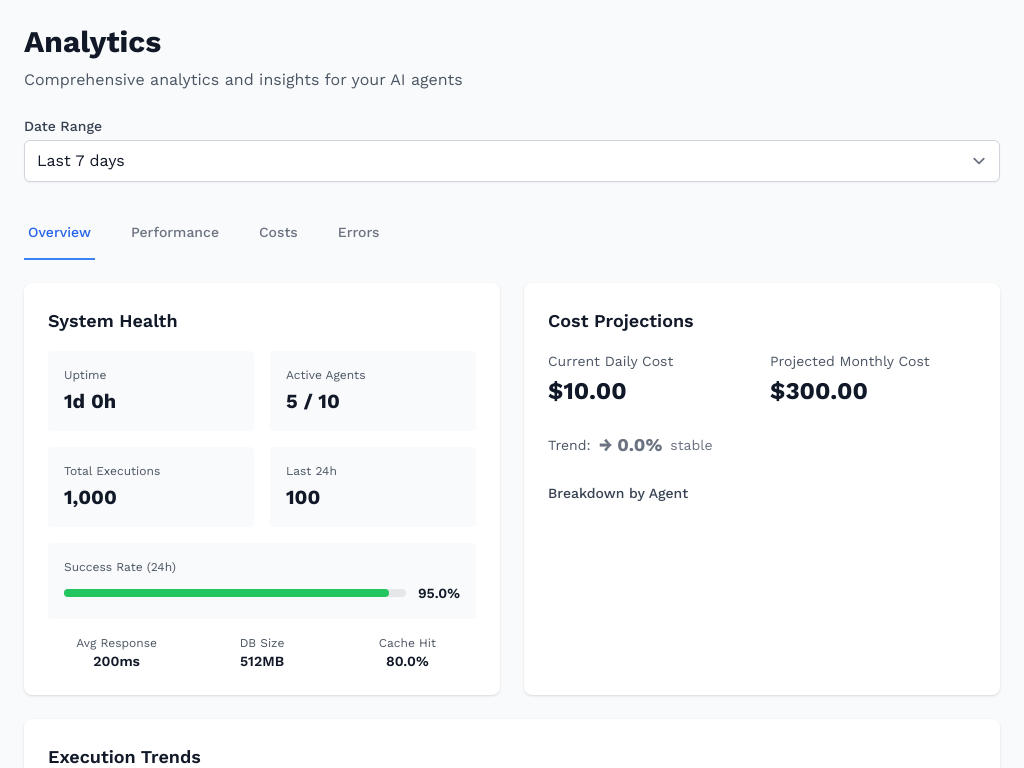
Test case: Analytics Page › renders performance tab content when selected
Click the tab "Performance": (175, 233) [127, 206, 223, 260]
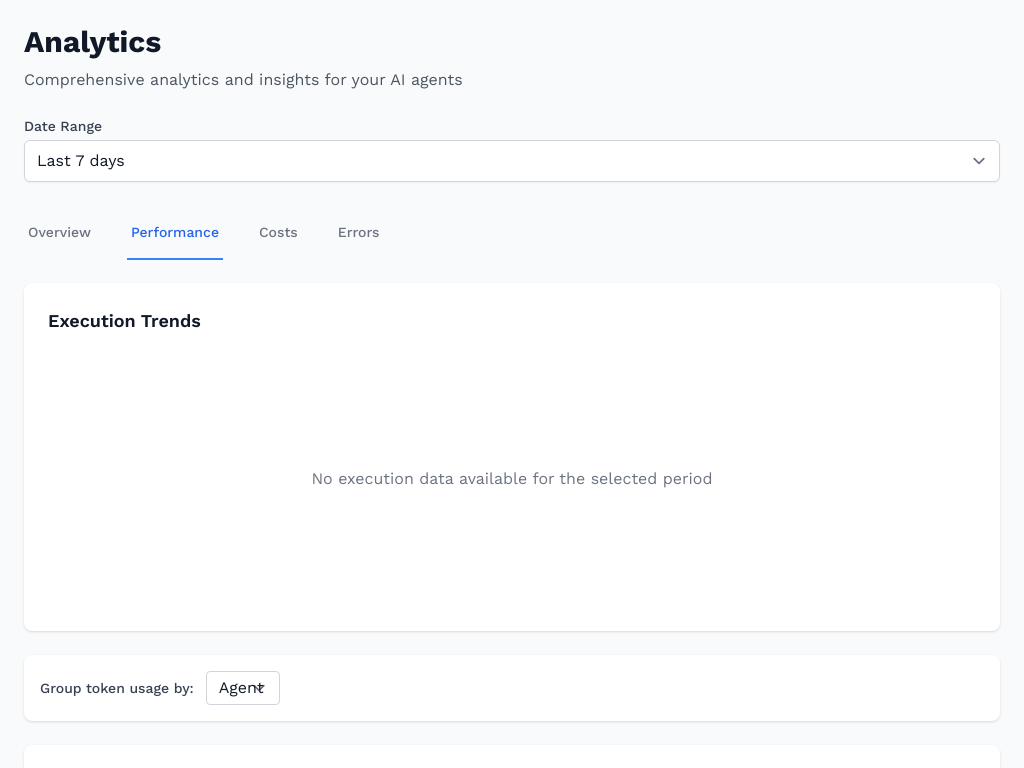
Check: the dropdown labelled "Group token usage by:" is shown, box [206, 671, 280, 705]
